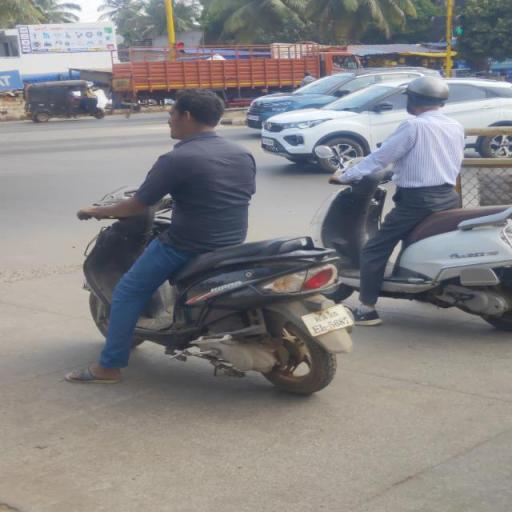bike: (64, 86, 360, 400)
numberplate: (300, 300, 352, 336)
withouthelmet: (172, 90, 222, 136)
